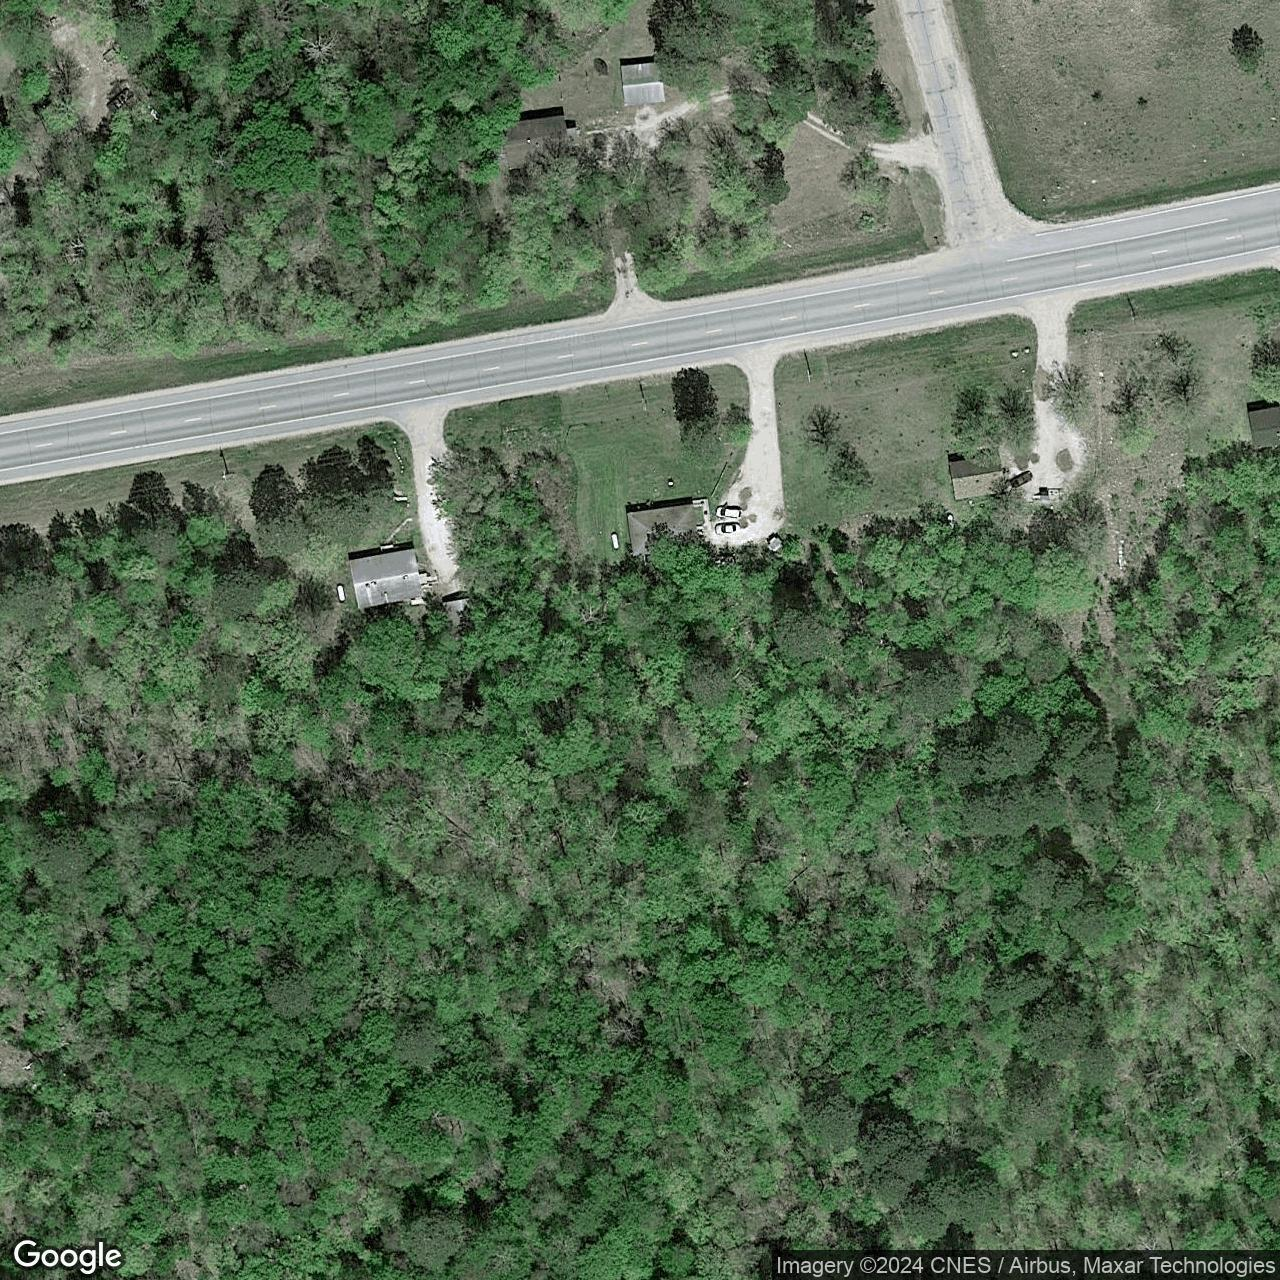Garage: (620, 61, 667, 107)
House: (348, 547, 424, 610), (497, 111, 572, 171), (626, 503, 700, 558), (948, 452, 1007, 502), (1246, 404, 1279, 449)
Propane: (334, 581, 348, 604), (608, 530, 621, 552)
